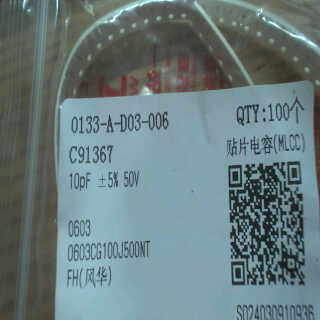10pF: (64, 169, 96, 195)
